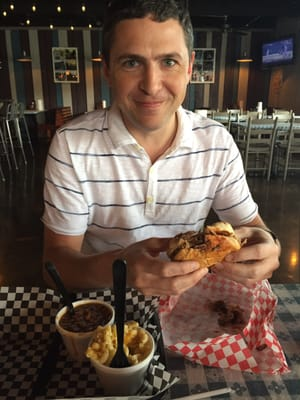pizza: (55, 299, 114, 362)
salad: (46, 260, 77, 314)
